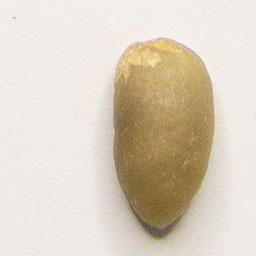longberry: (109, 32, 218, 234)
